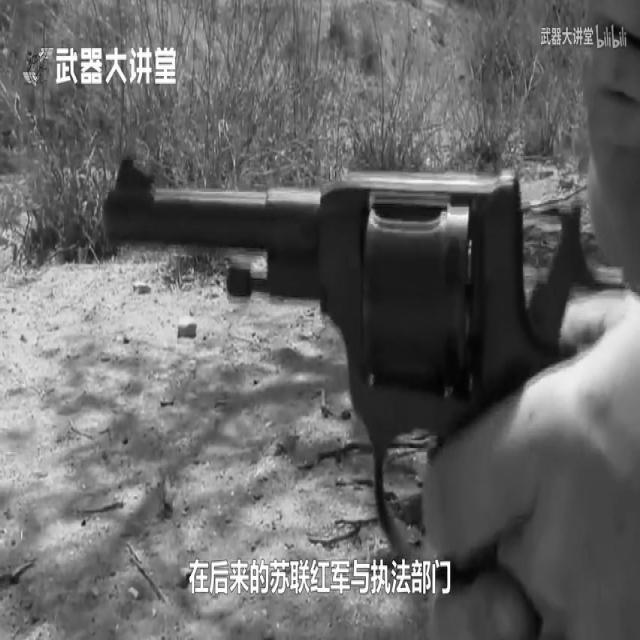Short-Gun: (83, 83, 588, 635)
